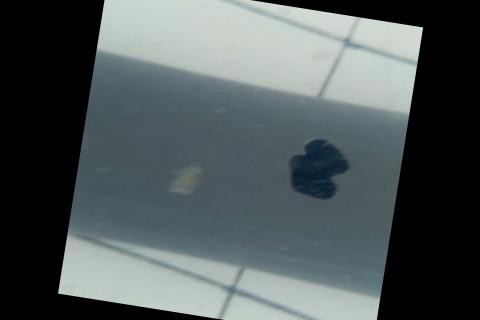kebocoran: (279, 132, 354, 204)
